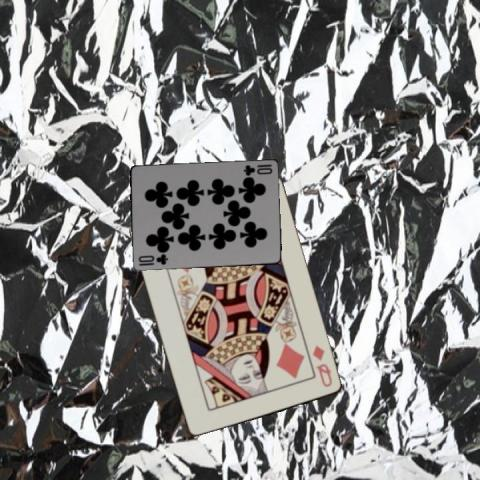10c: (240, 162, 273, 178), (136, 252, 169, 267)
Qd: (310, 343, 334, 389)
